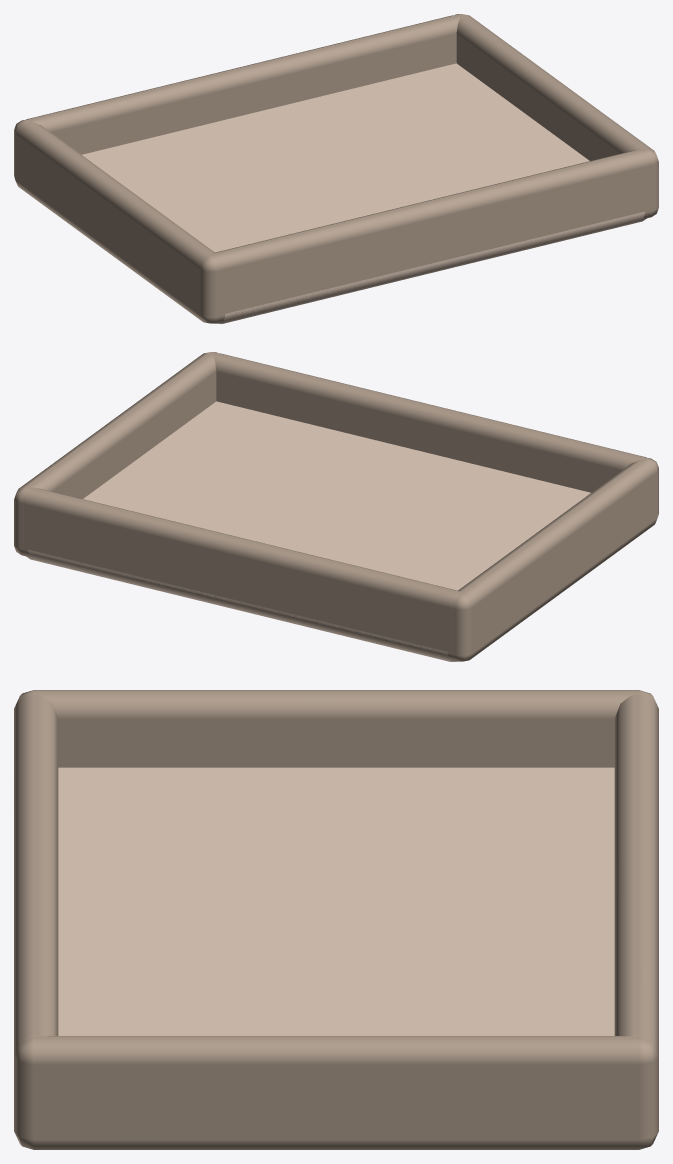
The model's file is tray.glb.
3 renders of one model, top to bottom at view 1: azimuth 30°, elevation 25°; view 2: azimuth 150°, elevation 25°; view 3: azimuth 270°, elevation 25°, orthographic. The views are drawn at different scales.
Visible parts, largest first — view 1: tray.material1, tray.material0; view 2: tray.material1, tray.material0; view 3: tray.material0, tray.material1.
Boxes of the visible parts, x1,y1,x2,y2 form: tray.material1: [14, 14, 658, 323]; tray.material0: [82, 63, 647, 323]; tray.material1: [14, 352, 658, 661]; tray.material0: [25, 401, 590, 661]; tray.material0: [58, 767, 614, 1035]; tray.material1: [14, 690, 658, 1149].
Size of the model in its own units: 0.388 by 0.058 by 0.29.
